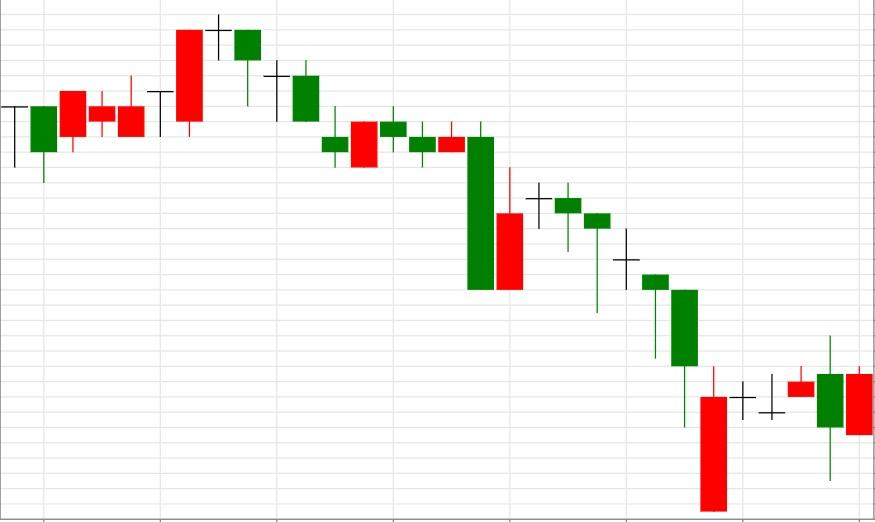bearish_engulfing_fall: (700, 335, 844, 512)
evening_star_fall: (30, 13, 262, 183)
